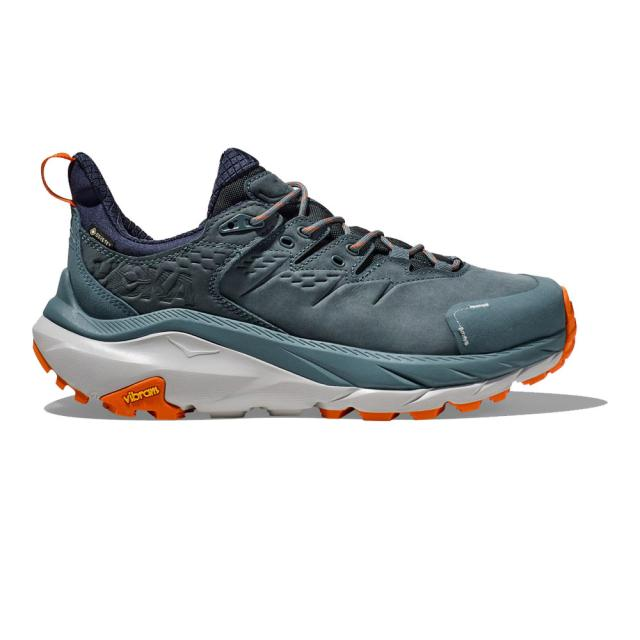shoe: (21, 128, 589, 429)
